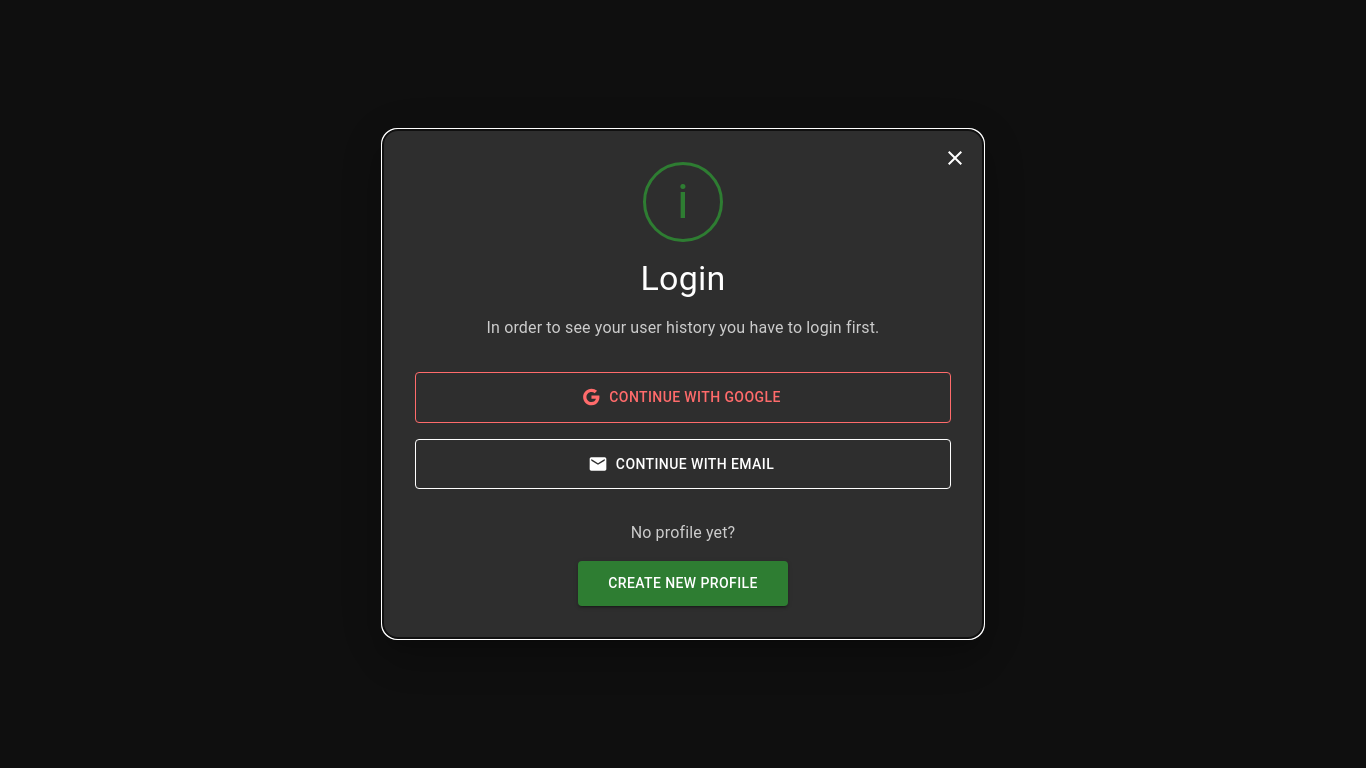
Test: LoginModal › rejects login submit until email + password are filled (button disabled)
The width and height of the screenshot is (1366, 768).
Click the button "CONTINUE WITH EMAIL" at (683, 464), box [415,439,951,489]
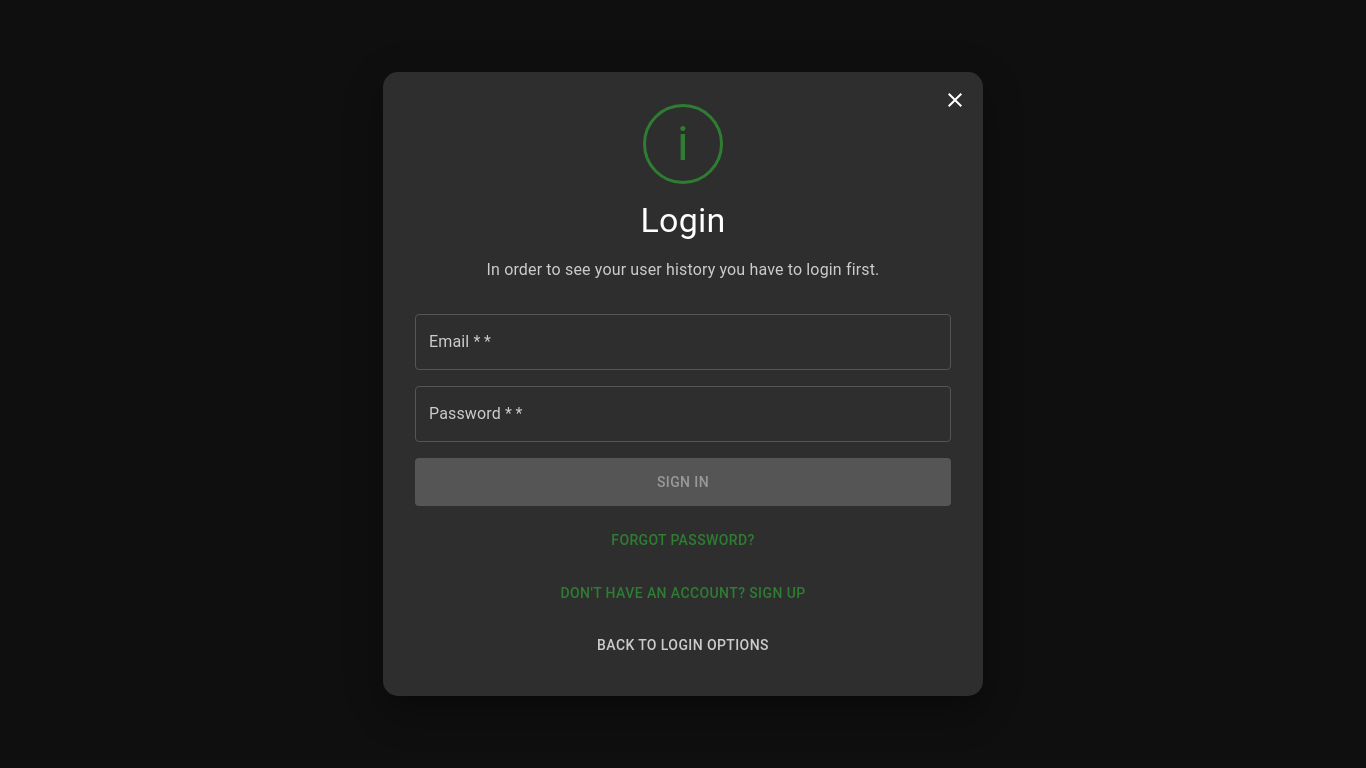
Result: the button "Sign In" is disabled at [415,458,951,506]
Type "a@gmail.com" into the field labelled "Email * *" at (683, 342), box [415,314,951,370]
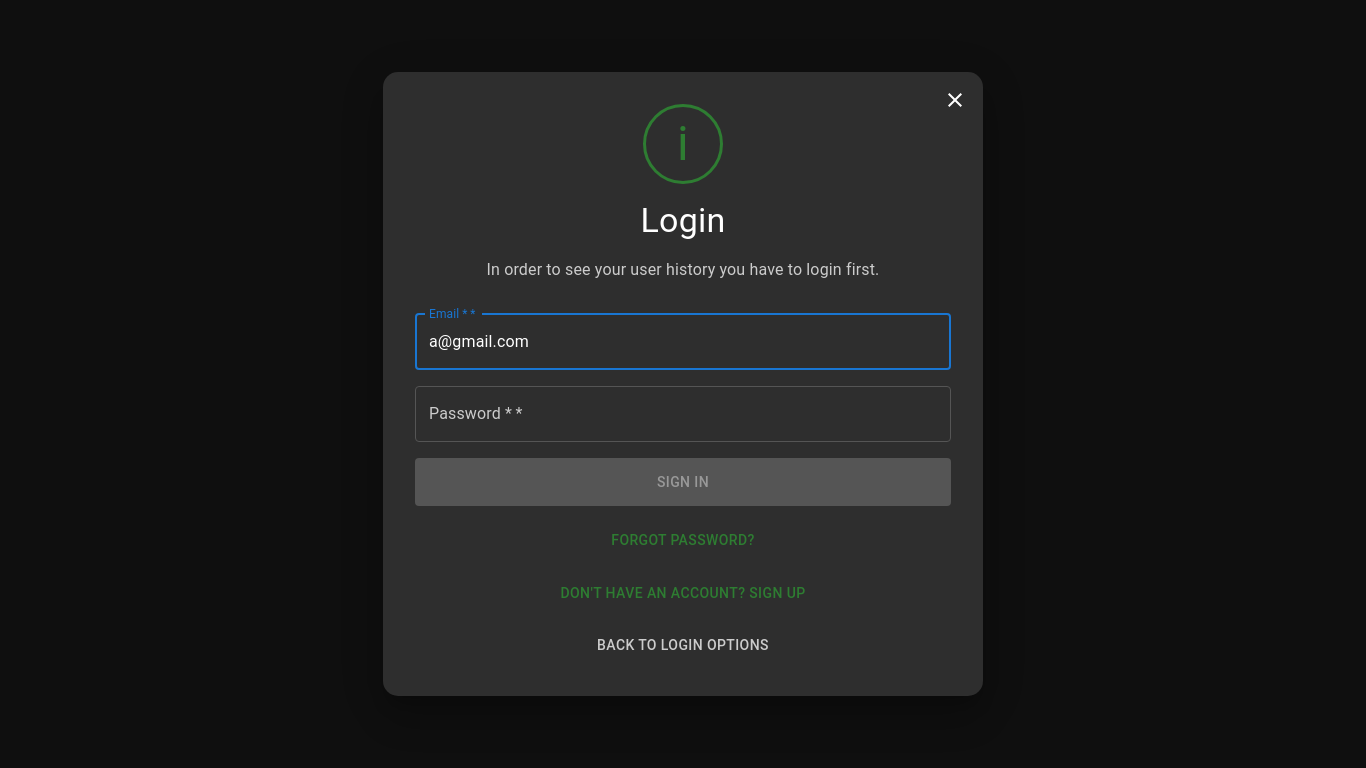
Type "secret" into the password field labelled "Password * *" at (683, 414), box [415,386,951,442]
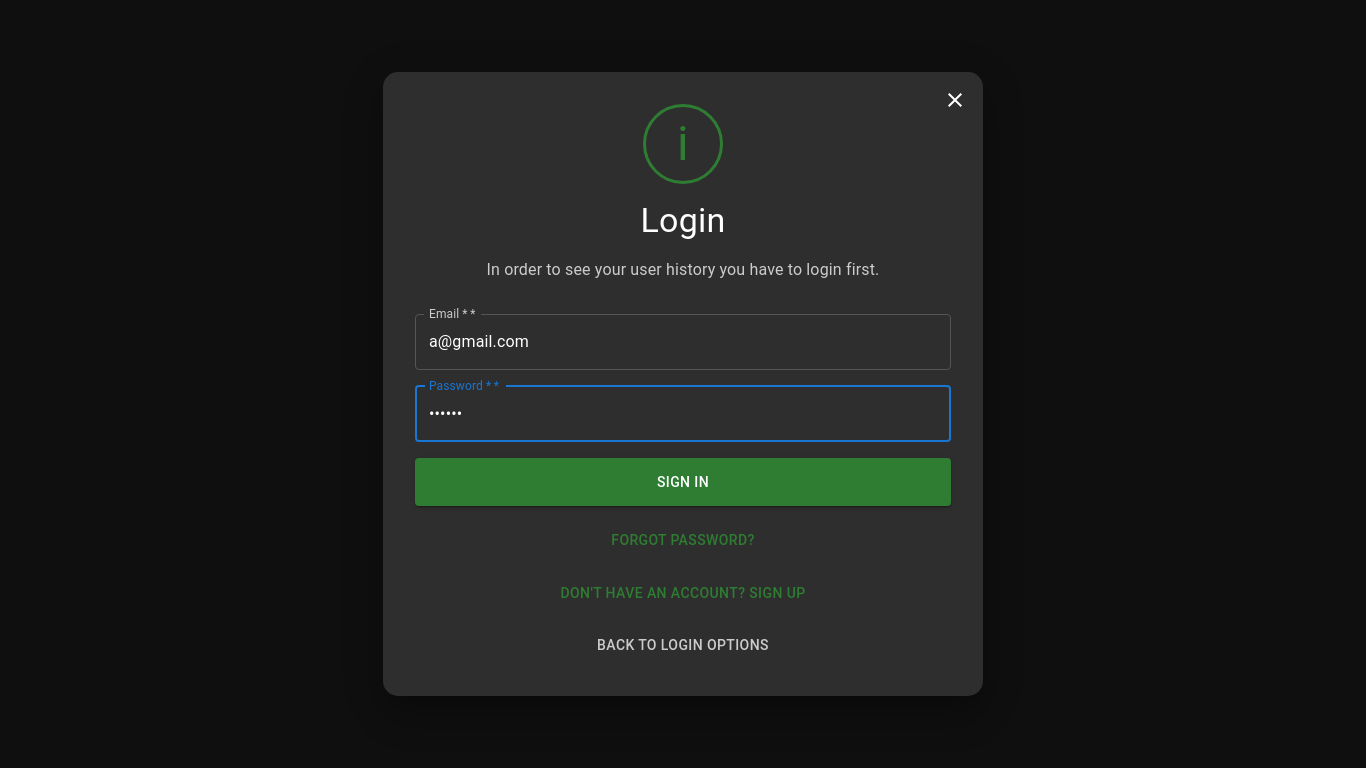
Result: the button "Sign In" is enabled at [415,458,951,506]
